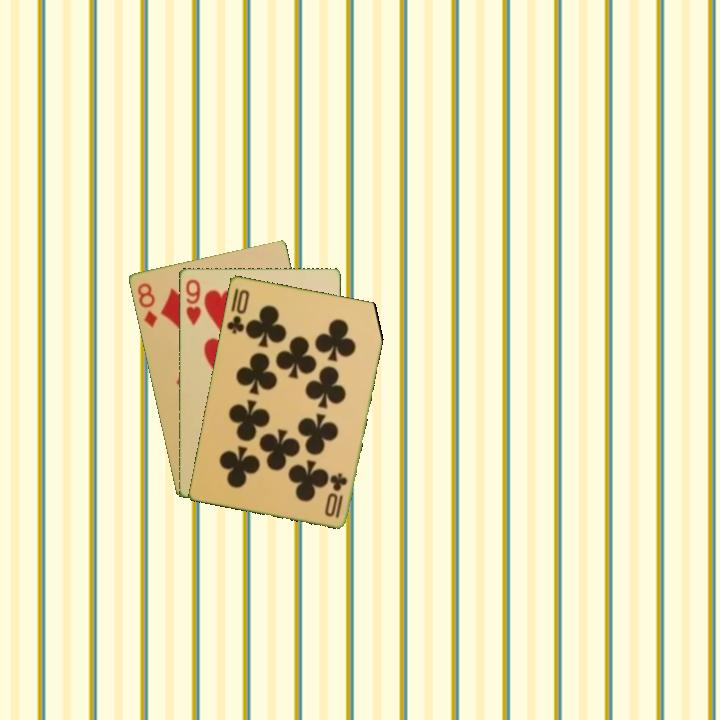10c: (223, 286, 252, 336), (328, 469, 350, 521)
8d: (133, 279, 160, 330)
9h: (182, 276, 203, 328)
